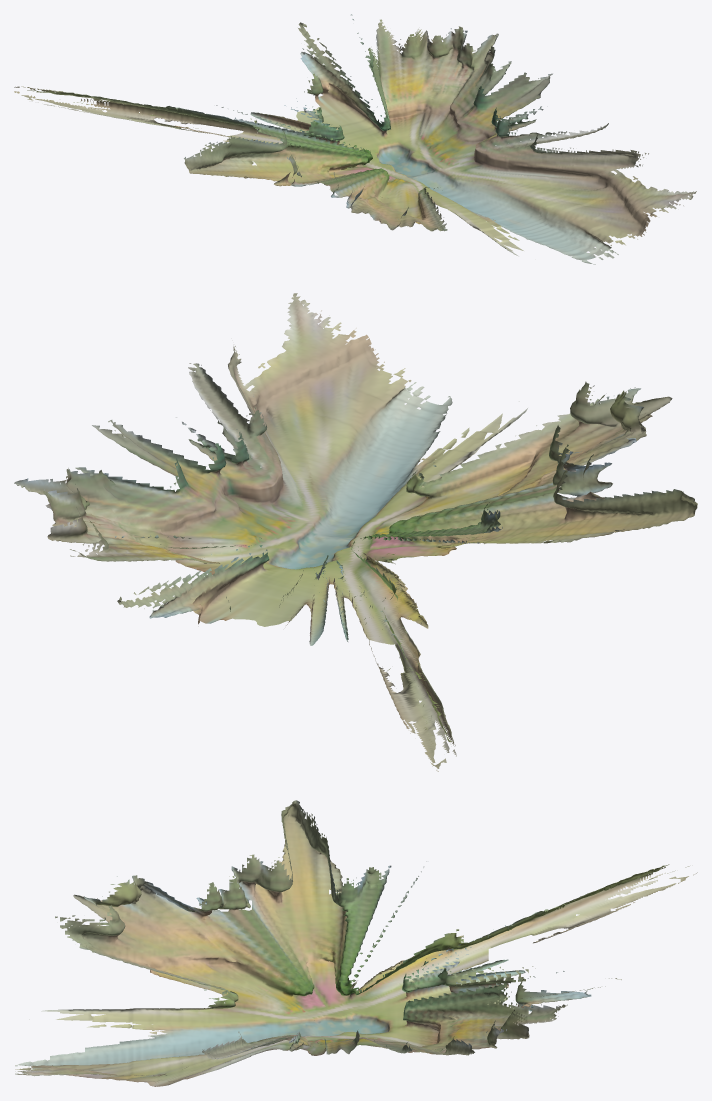
The model's file is animal-crossing_collider.glb.
The picture shows the model from 3 angles, top to bottom: view 1: azimuth 30°, elevation 25°; view 2: azimuth 150°, elevation 25°; view 3: azimuth 270°, elevation 25°; orthographic projection. The views are drawn at different scales.
Visible parts, largest first — view 1: world; view 2: world; view 3: world.
Boxes of the visible parts, box(x1,y1,x2,y2) form: world: box(14, 14, 696, 264); world: box(14, 293, 697, 771); world: box(15, 800, 697, 1086).
Size of the model in its own units: 22.92 by 5.05 by 29.66.
